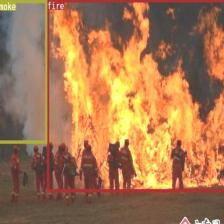fire: (46, 0, 224, 191)
smoke: (0, 0, 47, 143)
